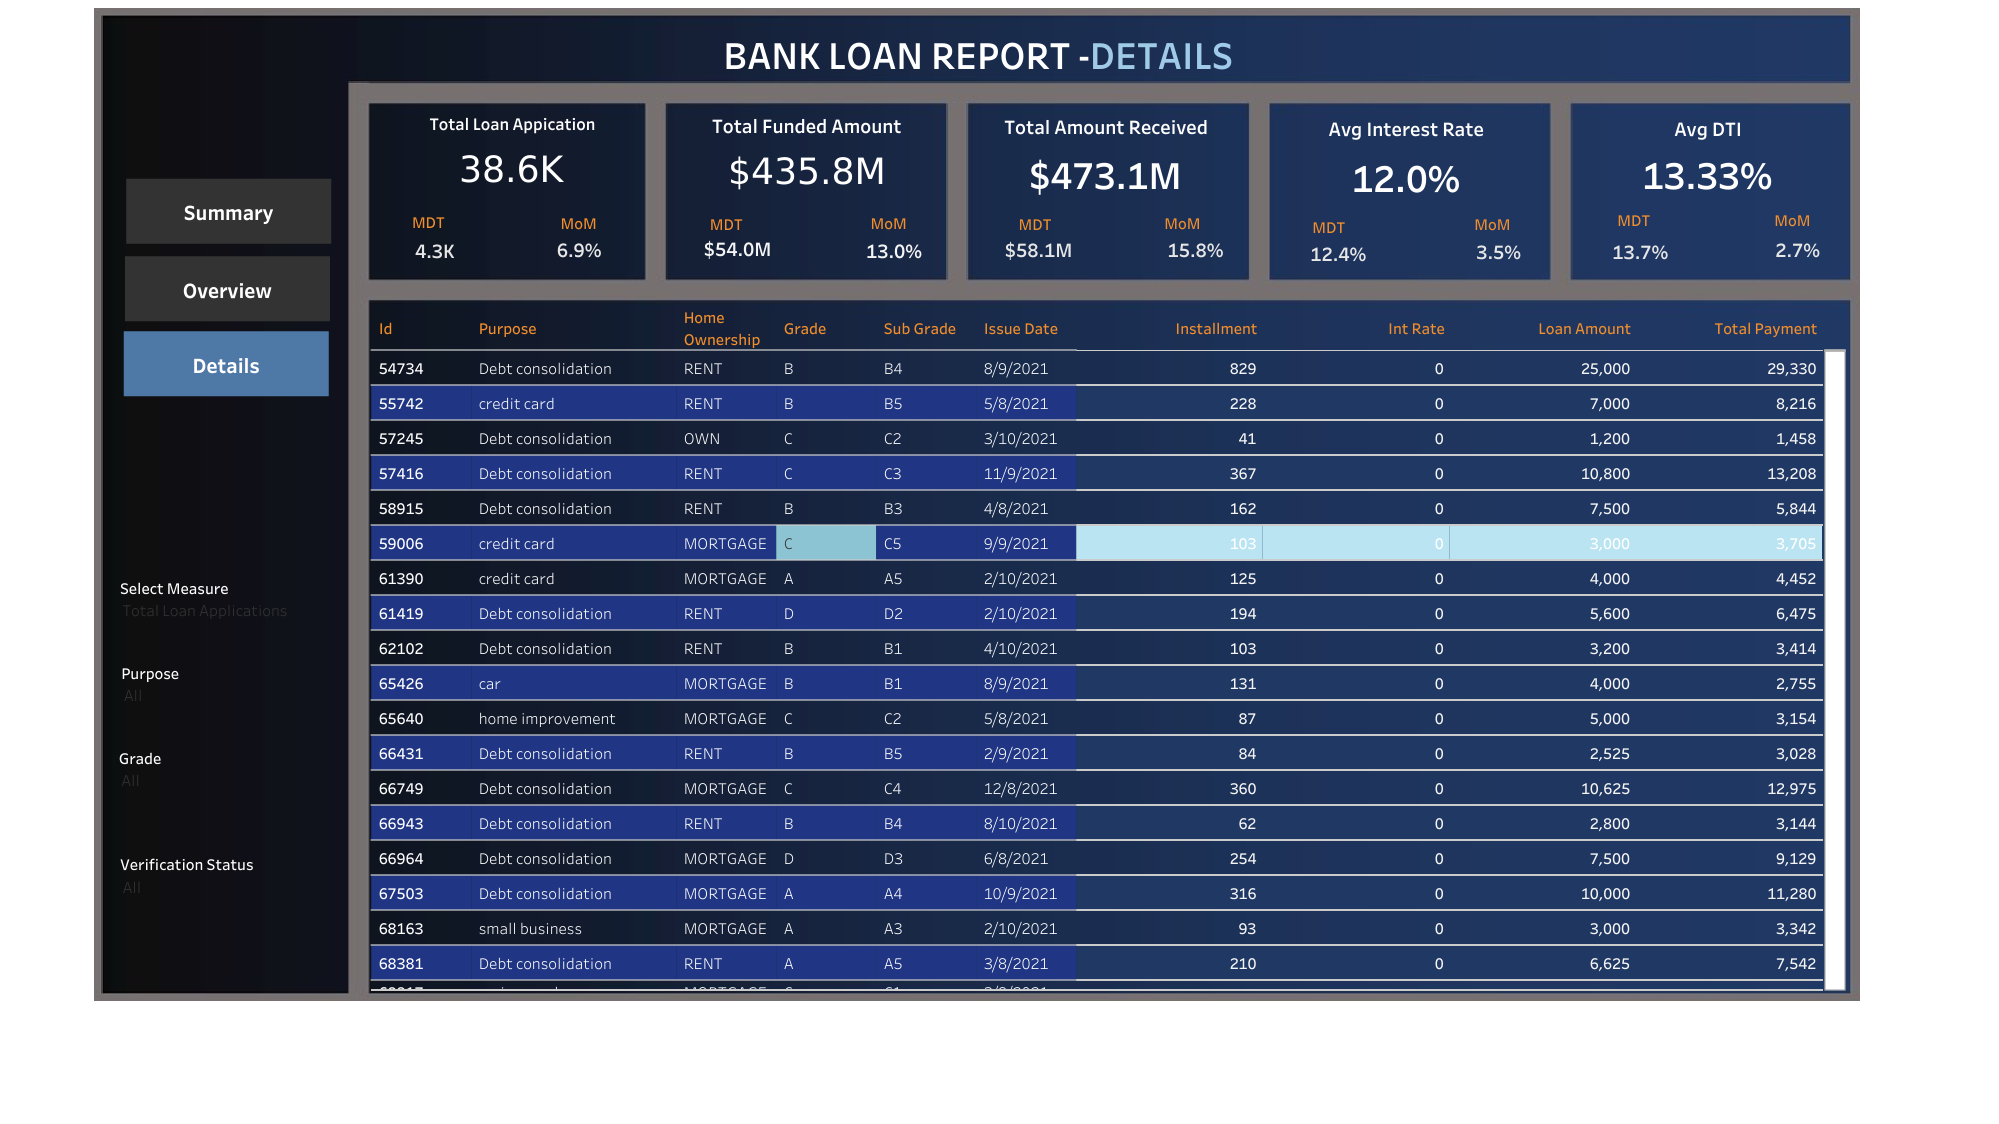

The page's visual inventory and layout, read from the dashboard file:
{"tool":"tableau","page":{"name":"DETAILS","canvas":[1600,900],"ordinal":0},"visuals":[{"type":"text","box":[576,20,611,46]},{"type":"worksheet","title":"Total Loan Appication","mark":"Automatic","box":[299,83,222,72]},{"type":"worksheet","title":"Total Funded Amount","mark":"Automatic","box":[534,83,223,72]},{"type":"worksheet","title":"Total Amount Received","mark":"Automatic","box":[775,84,220,74]},{"type":"worksheet","title":"Avg Interest Rate ","mark":"Automatic","box":[1018,86,214,74]},{"type":"worksheet","title":"Avg  DTI","mark":"Automatic","box":[1257,86,219,71]},{"type":"dashboard-object","box":[101,143,164,52]},{"type":"text","box":[661,160,100,35]},{"type":"text","box":[1257,161,100,30]},{"type":"text","box":[1384,161,100,30]},{"type":"text","box":[327,162,38,30]},{"type":"text","box":[896,163,100,30]},{"type":"text","box":[531,164,100,30]},{"type":"text","box":[778,164,100,30]},{"type":"text","box":[1144,164,100,30]},{"type":"worksheet","title":"MoM Avg Int Rate","mark":"Automatic","box":[1172,164,54,56]},{"type":"text","box":[1013,166,100,30]},{"type":"text","box":[435,167,56,21]},{"type":"worksheet","title":"MoM Avg DTI","mark":"Automatic","box":[1403,167,70,45]},{"type":"worksheet","title":"MoM Total amount Received","mark":"Automatic","box":[924,185,65,29]},{"type":"worksheet","title":"MTD Total Funded Amount","mark":"Automatic","box":[552,186,77,24]},{"type":"worksheet","title":"MDT Avg Int Rate","mark":"Automatic","box":[1035,186,71,32]},{"type":"worksheet","title":"MDT Avg DTI","mark":"Automatic","box":[1277,186,71,30]},{"type":"worksheet","title":"MoM Loan Applications","mark":"Automatic","box":[438,187,51,24]},{"type":"worksheet","title":"MoM Total Funded amount","mark":"Automatic","box":[685,187,62,26]},{"type":"worksheet","title":"MTD Loan Applications","mark":"Automatic","box":[324,188,49,24]},{"type":"worksheet","title":"MTD Total Amount Received","mark":"Automatic","box":[793,189,78,22]},{"type":"dashboard-object","box":[100,205,164,52]},{"type":"worksheet","title":"Details_","mark":"Automatic","rows":["id","purpose","home_ownership","grade","sub_grade","issue_date"],"box":[297,244,1180,549]},{"type":"dashboard-object","box":[99,265,164,52]},{"type":"parameter","param":"[Parameters].[Parameter 1]","box":[96,460,174,48]},{"type":"filter","title":"Avg  DTI","param":"[federated.0kz0aj01wvldix11vdus30y9d7lb].[none:purpose:nk]","box":[97,528,174,48]},{"type":"filter","title":"Avg  DTI","param":"[federated.0kz0aj01wvldix11vdus30y9d7lb].[none:grade:nk]","box":[95,596,176,59]},{"type":"filter","title":"Avg  DTI","param":"[federated.0kz0aj01wvldix11vdus30y9d7lb].[none:verification_status:nk]","box":[96,681,176,60]}]}

Visuals, with their boxes in screenshot pixels (x1, y1, x2, y2), scaled from the page's 1600x900 canvas onto the 1999x1124 screenshot:
text: BBox(720, 25, 1483, 82)
"Total Loan Appication" worksheet: BBox(374, 104, 651, 194)
"Total Funded Amount" worksheet: BBox(667, 104, 946, 194)
"Total Amount Received" worksheet: BBox(968, 105, 1243, 197)
"Avg Interest Rate " worksheet: BBox(1272, 107, 1539, 200)
"Avg  DTI" worksheet: BBox(1570, 107, 1844, 196)
dashboard-object: BBox(126, 179, 331, 244)
text: BBox(826, 200, 951, 244)
text: BBox(1570, 201, 1695, 239)
text: BBox(1729, 201, 1854, 239)
text: BBox(409, 202, 456, 240)
text: BBox(1119, 204, 1244, 241)
text: BBox(663, 205, 788, 242)
text: BBox(972, 205, 1097, 242)
text: BBox(1429, 205, 1554, 242)
"MoM Avg Int Rate" worksheet: BBox(1464, 205, 1532, 275)
text: BBox(1266, 207, 1391, 245)
text: BBox(543, 209, 613, 235)
"MoM Avg DTI" worksheet: BBox(1753, 209, 1840, 265)
"MoM Total amount Received" worksheet: BBox(1154, 231, 1236, 267)
"MTD Total Funded Amount" worksheet: BBox(690, 232, 786, 262)
"MDT Avg Int Rate" worksheet: BBox(1293, 232, 1382, 272)
"MDT Avg DTI" worksheet: BBox(1595, 232, 1684, 270)
"MoM Loan Applications" worksheet: BBox(547, 234, 611, 264)
"MoM Total Funded amount" worksheet: BBox(856, 234, 933, 266)
"MTD Loan Applications" worksheet: BBox(405, 235, 466, 265)
"MTD Total Amount Received" worksheet: BBox(991, 236, 1088, 264)
dashboard-object: BBox(125, 256, 330, 321)
"Details_" worksheet: BBox(371, 305, 1845, 990)
dashboard-object: BBox(124, 331, 329, 396)
parameter: BBox(120, 574, 337, 634)
"Avg  DTI" filter: BBox(121, 659, 339, 719)
"Avg  DTI" filter: BBox(119, 744, 339, 818)
"Avg  DTI" filter: BBox(120, 850, 340, 925)
